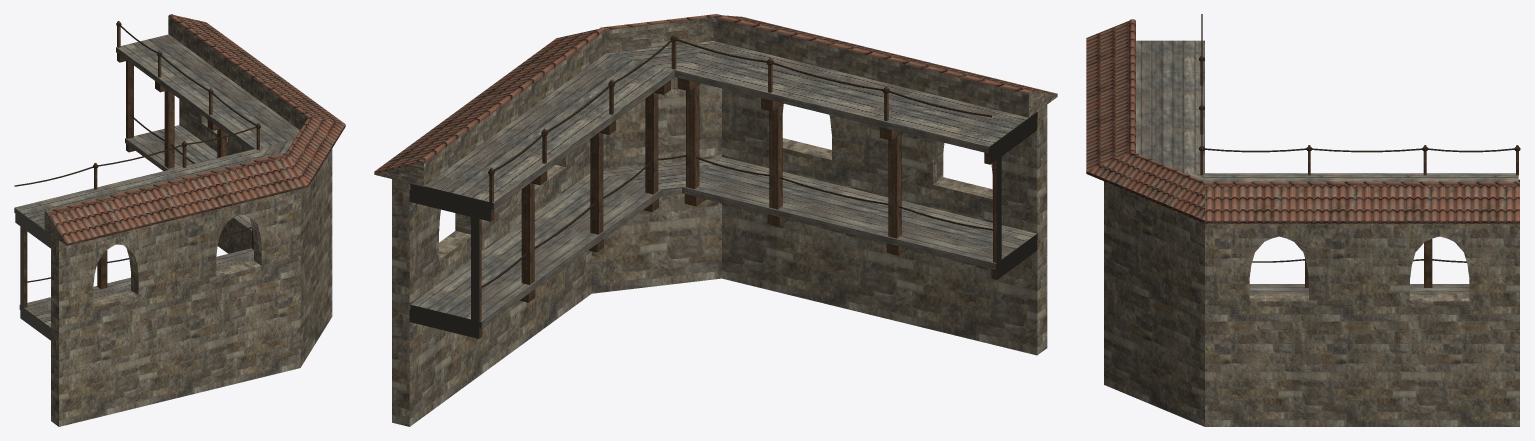
The model's file is FortWallRCornerR2.dae.
3 views of the same model, side by side, from view 1: azimuth 30°, elevation 25°; view 2: azimuth 150°, elevation 25°; view 3: azimuth 270°, elevation 25° (orthographic). The views are drawn at different scales.
Parts seen in each view (by area): view 1: forts_stone_copy186-0; view 2: forts_stone_copy186-0; view 3: forts_stone_copy186-0.
Part boxes in pixels (x1,y1,x2,y2): forts_stone_copy186-0: (14, 14, 345, 426); forts_stone_copy186-0: (374, 14, 1057, 426); forts_stone_copy186-0: (1086, 14, 1520, 426).
Size of the model in its own units: 14.59 by 8.92 by 14.61.
